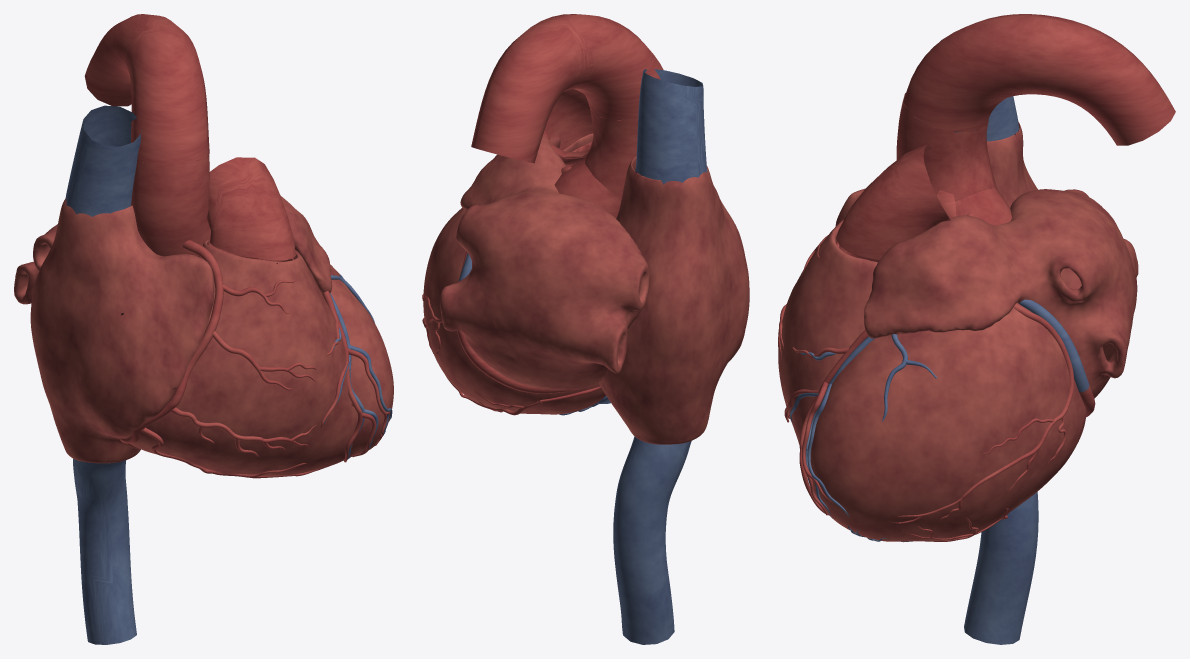
File: heart.glb
3 renders of one model, left to right at view 1: azimuth 30°, elevation 25°; view 2: azimuth 150°, elevation 25°; view 3: azimuth 270°, elevation 25°, orthographic. The views are drawn at different scales.
Parts seen in each view (by area): view 1: Right atrium.001, Right ventricle.001, Aortic arch.001, Inferior vena cava (thoracic part).001, Pulmonary trunk.001, Ascending aorta.001, Superior vena cava.001, Right coronary artery.001, Left ventricle.001, Left atrium.001, Anterior interventricular artery.001, Great cardiac vein.001; view 2: Left atrium.001, Right atrium.001, Aortic arch.001, Inferior vena cava (thoracic part).001, Left ventricle.001, Superior vena cava.001, Ascending aorta.001, Pulmonary trunk.001, Coronary sinus.001; view 3: Left ventricle.001, Left atrium.001, Aortic arch.001, Right ventricle.001, Inferior vena cava (thoracic part).001, Pulmonary trunk.001, Ascending aorta.001, Great cardiac vein.001, Right atrium.001, Circumflex artery of heart.001, Anterior interventricular artery.001, Superior vena cava.001.
Part boxes in pixels (x1,y1,x2,y2): Right atrium.001: [30, 198, 214, 463]; Right ventricle.001: [123, 240, 354, 475]; Aortic arch.001: [84, 14, 209, 163]; Inferior vena cava (thoracic part).001: [73, 458, 136, 644]; Pulmonary trunk.001: [207, 157, 295, 260]; Ascending aorta.001: [131, 155, 210, 256]; Superior vena cava.001: [65, 105, 141, 216]; Right coronary artery.001: [119, 240, 329, 478]; Left ventricle.001: [330, 265, 393, 457]; Left atrium.001: [14, 195, 332, 304]; Anterior interventricular artery.001: [320, 291, 389, 462]; Great cardiac vein.001: [324, 274, 392, 458]; Left atrium.001: [440, 136, 649, 390]; Right atrium.001: [599, 156, 749, 444]; Aortic arch.001: [471, 14, 663, 163]; Inferior vena cava (thoracic part).001: [613, 436, 691, 644]; Left ventricle.001: [423, 208, 605, 414]; Superior vena cava.001: [635, 69, 707, 184]; Ascending aorta.001: [554, 108, 638, 218]; Pulmonary trunk.001: [542, 89, 621, 164]; Coronary sinus.001: [457, 330, 575, 393]; Left ventricle.001: [808, 303, 1086, 541]; Left atrium.001: [864, 189, 1138, 398]; Aortic arch.001: [903, 14, 1175, 145]; Right ventricle.001: [778, 219, 877, 444]; Inferior vena cava (thoracic part).001: [964, 492, 1038, 644]; Pulmonary trunk.001: [836, 144, 956, 259]; Ascending aorta.001: [896, 93, 1011, 225]; Great cardiac vein.001: [790, 299, 1089, 516]; Right atrium.001: [835, 122, 1037, 225]; Circumflex artery of heart.001: [890, 303, 1074, 523]; Anterior interventricular artery.001: [784, 330, 868, 515]; Superior vena cava.001: [940, 39, 1019, 141].
Bounding box in the file's own units: 0.1191 × 0.2264 × 0.1243.
Materials: 6 (6 with a texture image).
